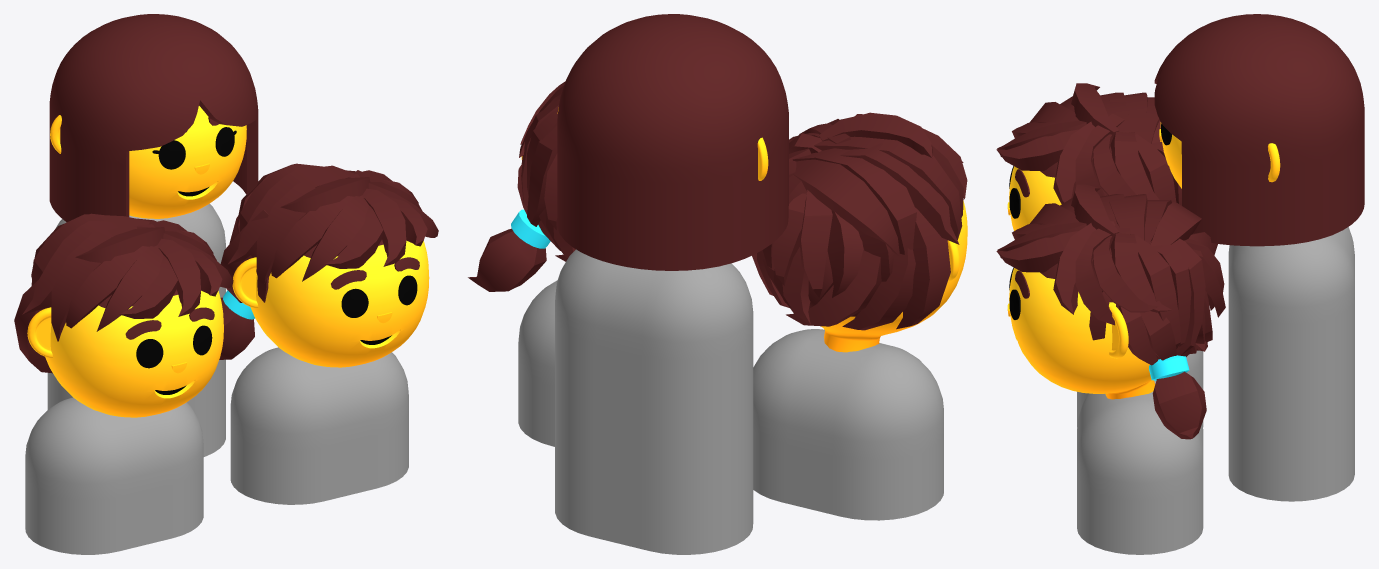
The model's file is family_woman_girl_boy.gltf.
3 renders of one model, left to right at view 1: azimuth 30°, elevation 25°; view 2: azimuth 150°, elevation 25°; view 3: azimuth 270°, elevation 25°, orthographic. The views are drawn at different scales.
Parts seen in each view (by area): view 1: Roundcube.423, Sphere.348, Sphere.349, Cube.5957, Cube.5988, Roundcube.421, Roundcube.422, Roundcube.420, Sphere.347, Cube.6008, Circle.1754, Circle.1751 (+5 smaller); view 2: Sphere.347, Roundcube.423, Cube.5957, Sphere.348, Sphere.349, Cube.5988, Cube.6008, Roundcube.421, Cube.6009; view 3: Roundcube.423, Sphere.347, Cube.5988, Sphere.349, Cube.5957, Roundcube.422, Cube.6008, Roundcube.421, Cylinder.285, Cube.6009, Sphere.348, Roundcube.420.
Part boxes in pixels (x1,y1,x2,y2): Roundcube.423: (49, 14, 258, 222); Sphere.348: (25, 397, 203, 554); Sphere.349: (230, 347, 408, 504); Cube.5957: (14, 213, 233, 373); Cube.5988: (220, 163, 438, 302); Roundcube.421: (45, 289, 223, 417); Roundcube.422: (250, 240, 429, 367); Roundcube.420: (129, 106, 246, 218); Sphere.347: (47, 203, 225, 456); Cube.6008: (219, 297, 254, 359); Circle.1754: (341, 275, 417, 317); Circle.1751: (136, 325, 212, 368); Sphere.347: (555, 249, 753, 554); Roundcube.423: (557, 14, 788, 270); Cube.5957: (752, 112, 967, 330); Sphere.348: (753, 329, 943, 520); Sphere.349: (518, 280, 557, 446); Cube.5988: (517, 81, 575, 261); Cube.6008: (468, 228, 546, 291); Roundcube.421: (821, 200, 967, 352); Cube.6009: (511, 209, 550, 248); Roundcube.423: (1154, 14, 1364, 246); Sphere.347: (1228, 227, 1354, 501); Cube.5988: (996, 184, 1225, 365); Sphere.349: (1077, 380, 1203, 554); Cube.5957: (996, 83, 1181, 205); Roundcube.422: (1009, 248, 1159, 399); Cube.6008: (1152, 349, 1206, 439); Roundcube.421: (1009, 147, 1112, 230); Cylinder.285: (1109, 306, 1128, 358); Cube.6009: (1149, 355, 1189, 380); Sphere.348: (1077, 350, 1203, 427); Roundcube.420: (1160, 122, 1181, 188).
Bounding box in the file's own units: 2.53 × 2.52 × 1.93.
1 material, 1 textured.
